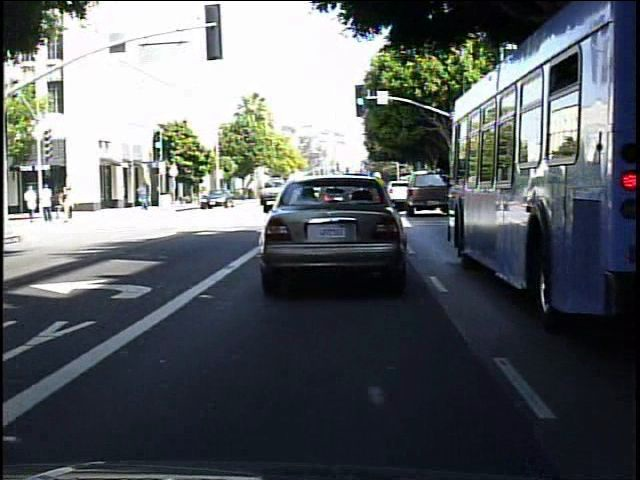person: (22, 180, 38, 223), (38, 182, 54, 223), (134, 179, 152, 214), (56, 183, 71, 222), (52, 188, 63, 221), (64, 182, 65, 221)
